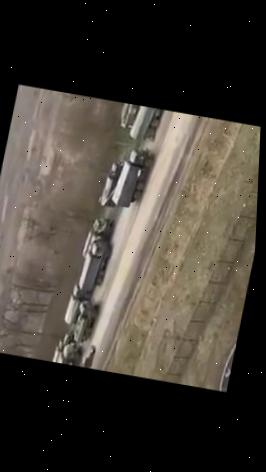car: (81, 344, 95, 368)
truck: (109, 142, 155, 211), (76, 237, 114, 293), (123, 103, 170, 146), (81, 215, 113, 260), (98, 159, 127, 208), (70, 298, 99, 344), (63, 282, 92, 326), (46, 331, 75, 364), (55, 342, 84, 366)
